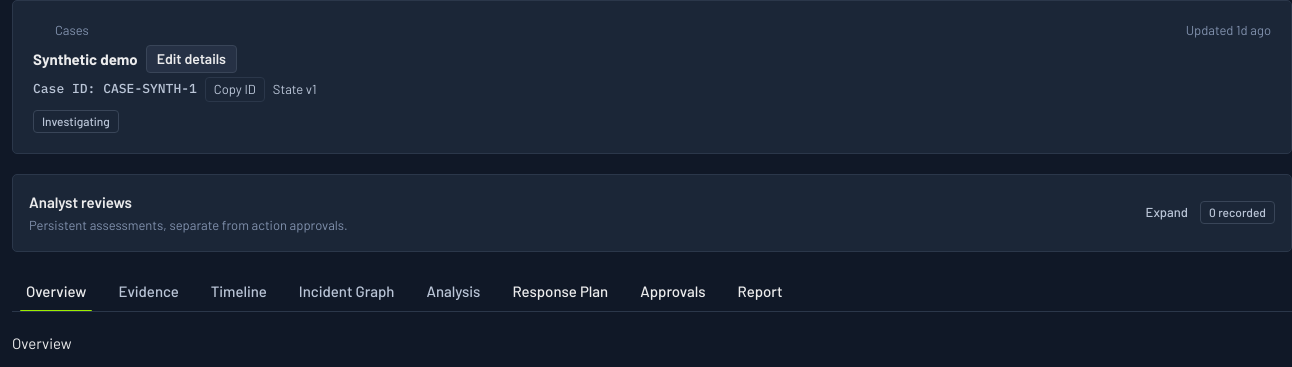
Test case: shows a persisted case ID, copies it with accessible feedback and enables the graph tab
Expected: the text "Case ID: CASE-SYNTH-1" is shown, [33,80,197,99]
Click the button with aria-label "Copy case ID": (235, 89) [205,77,265,102]
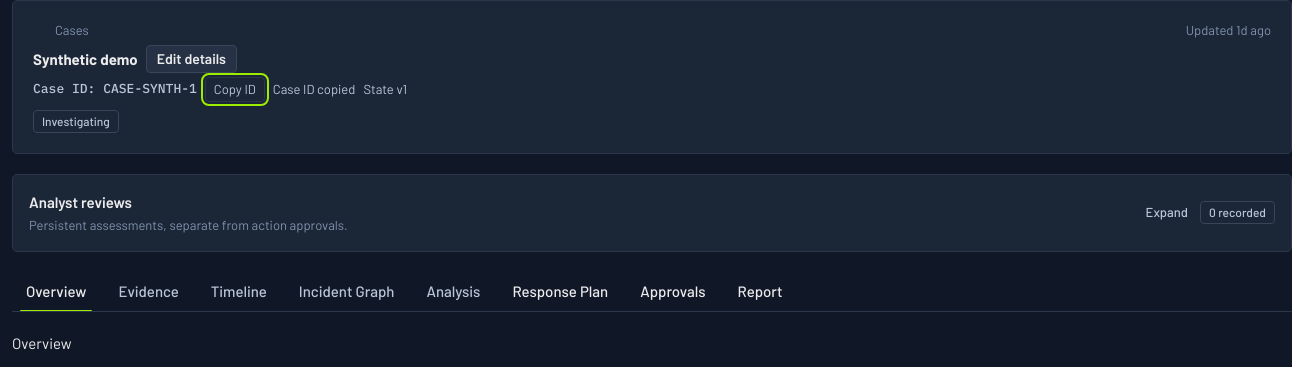
Expected: the message reads "Case ID copied", [273,81,355,97]
